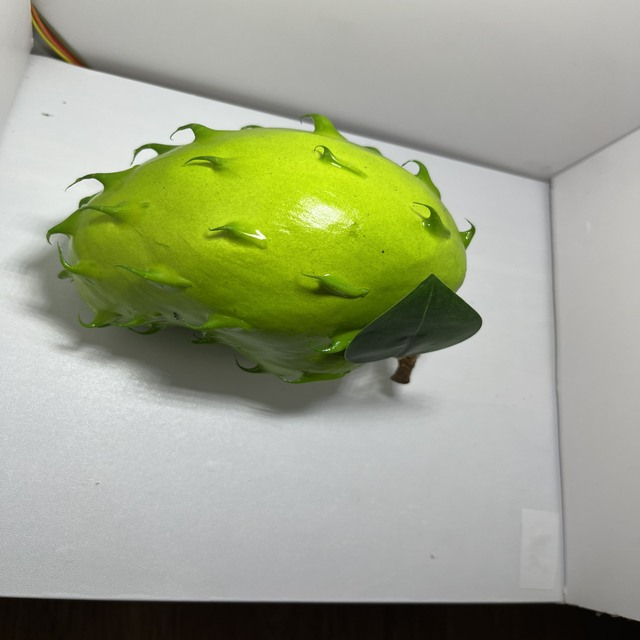Man cau: (41, 107, 484, 391)
